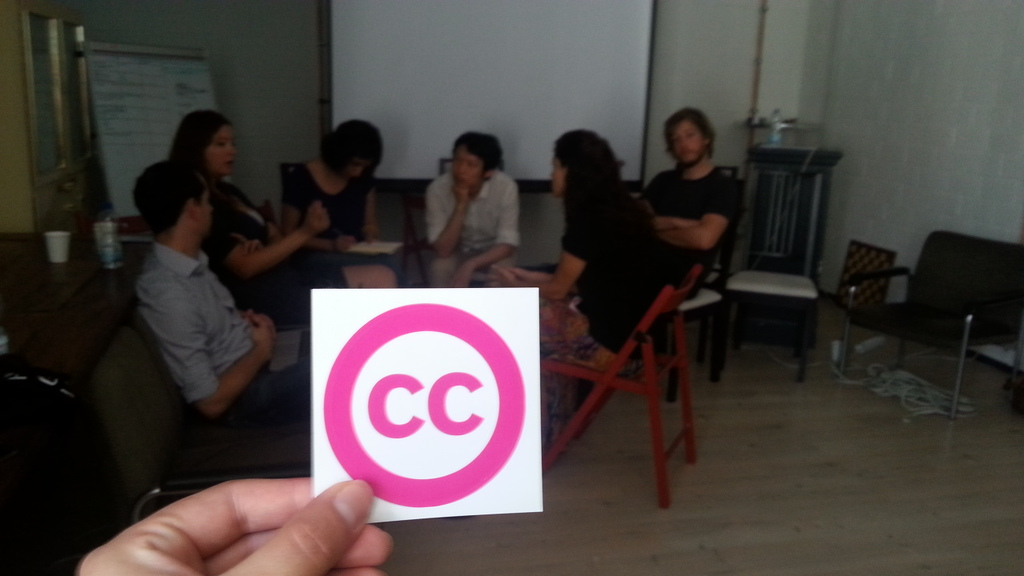face: (661, 102, 717, 176), (449, 129, 503, 196), (198, 109, 243, 184)
